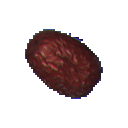gd: (16, 20, 127, 109)
